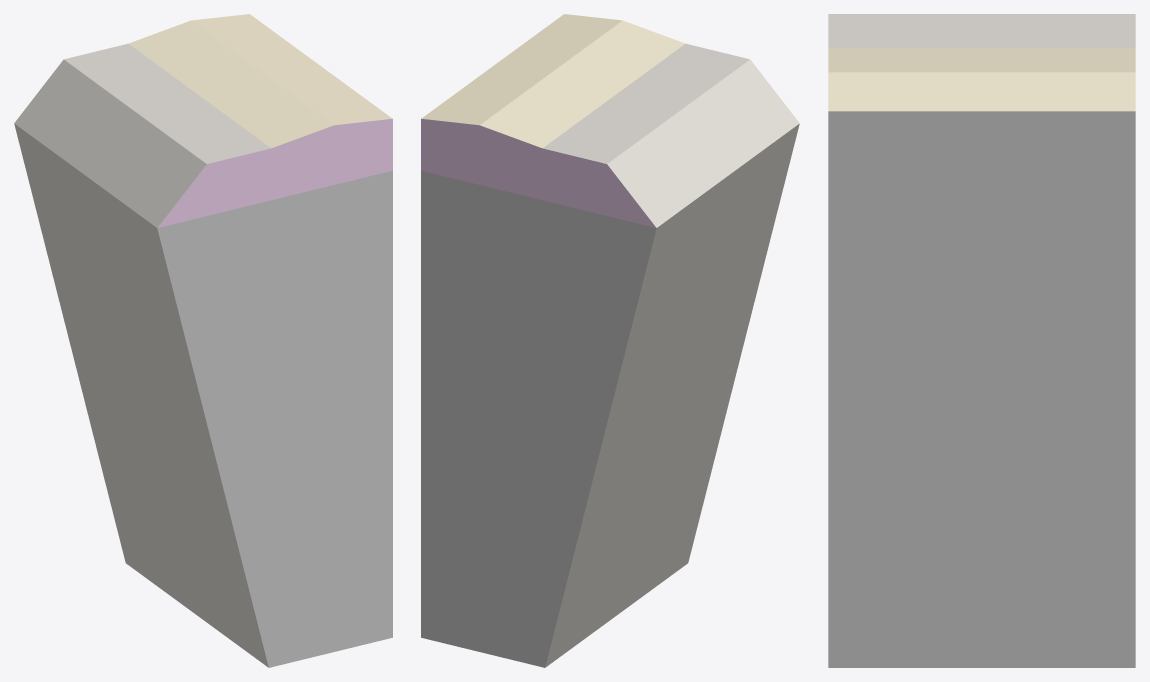
The model's file is Path_End_Center_Top_1x1.fbx.
The picture shows the model from 3 angles, left to right: view 1: azimuth 30°, elevation 25°; view 2: azimuth 150°, elevation 25°; view 3: azimuth 270°, elevation 25°; orthographic projection. The views are drawn at different scales.
Visible parts, largest first — view 1: Path_End_Center_Top_1x1; view 2: Path_End_Center_Top_1x1; view 3: Path_End_Center_Top_1x1.
Boxes of the visible parts, x1,y1,x2,y2 form: Path_End_Center_Top_1x1: [14, 14, 392, 667]; Path_End_Center_Top_1x1: [421, 14, 799, 667]; Path_End_Center_Top_1x1: [828, 14, 1135, 667].
Size of the model in its own units: 95 by 203 by 100.
